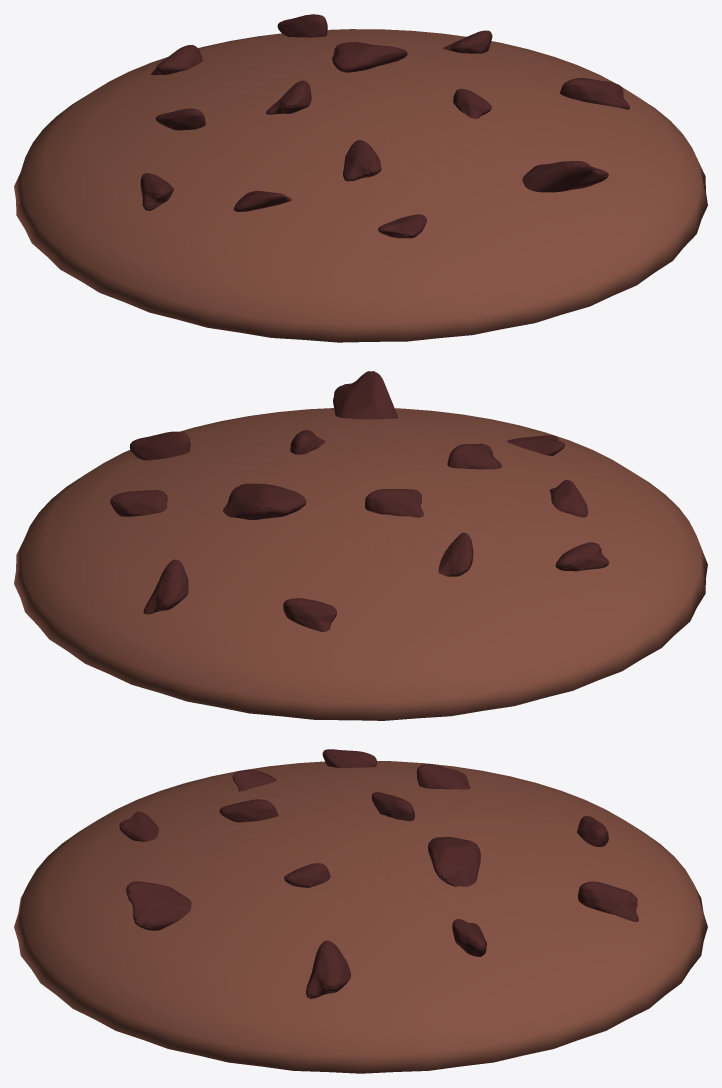
File: Cookie.glb
3 renders of one model, top to bottom at view 1: azimuth 30°, elevation 25°; view 2: azimuth 150°, elevation 25°; view 3: azimuth 270°, elevation 25°, orthographic.
Visible parts, largest first — view 1: Cookie, Chocochip.003, Chocochip.008, Chocochip.001, Chocochip.010, Chocochip, Chocochip.002, Chocochip.011, Chocochip.009, Chocochip.005, Chocochip.006, Chocochip.004 (+2 smaller); view 2: Cookie, Chocochip.008, Chocochip.003, Chocochip, Chocochip.002, Chocochip.001, Chocochip.011, Chocochip.012, Chocochip.010, Chocochip.009, Chocochip.005, Chocochip.004 (+2 smaller); view 3: Cookie, Chocochip.003, Chocochip.008, Chocochip.001, Chocochip, Chocochip.005, Chocochip.010, Chocochip.012, Chocochip.009, Chocochip.002, Chocochip.006, Chocochip.007 (+2 smaller).
Boxes of the visible parts, x1,y1,x2,y2 form: Cookie: (14, 29, 707, 342); Chocochip.003: (522, 161, 608, 192); Chocochip.008: (332, 42, 407, 72); Chocochip.001: (560, 78, 629, 109); Chocochip.010: (343, 140, 381, 181); Chocochip: (277, 14, 327, 37); Chocochip.002: (266, 80, 311, 114); Chocochip.011: (151, 45, 202, 75); Chocochip.009: (140, 173, 173, 210); Chocochip.005: (155, 108, 205, 130); Chocochip.006: (378, 214, 426, 238); Chocochip.004: (233, 191, 291, 211); Cookie: (14, 408, 707, 720); Chocochip.008: (223, 483, 306, 519); Chocochip.003: (333, 371, 398, 419); Chocochip: (143, 559, 188, 614); Chocochip.002: (365, 489, 423, 517); Chocochip.001: (129, 431, 190, 460); Chocochip.011: (283, 598, 336, 631); Chocochip.012: (110, 490, 167, 516); Chocochip.010: (447, 443, 501, 469); Chocochip.009: (555, 542, 609, 571); Chocochip.005: (438, 532, 473, 576); Chocochip.004: (549, 480, 587, 517); Cookie: (14, 761, 707, 1073); Chocochip.003: (126, 881, 191, 930); Chocochip.008: (428, 837, 480, 886); Chocochip.001: (306, 940, 350, 998); Chocochip: (578, 881, 638, 921); Chocochip.005: (416, 763, 470, 789); Chocochip.010: (219, 799, 278, 822); Chocochip.012: (452, 919, 486, 956); Chocochip.009: (322, 749, 376, 767); Chocochip.002: (371, 792, 414, 821); Chocochip.006: (119, 811, 158, 841); Chocochip.007: (284, 863, 330, 887).
Size of the model in its own units: 1.72 by 0.3427 by 1.72.
